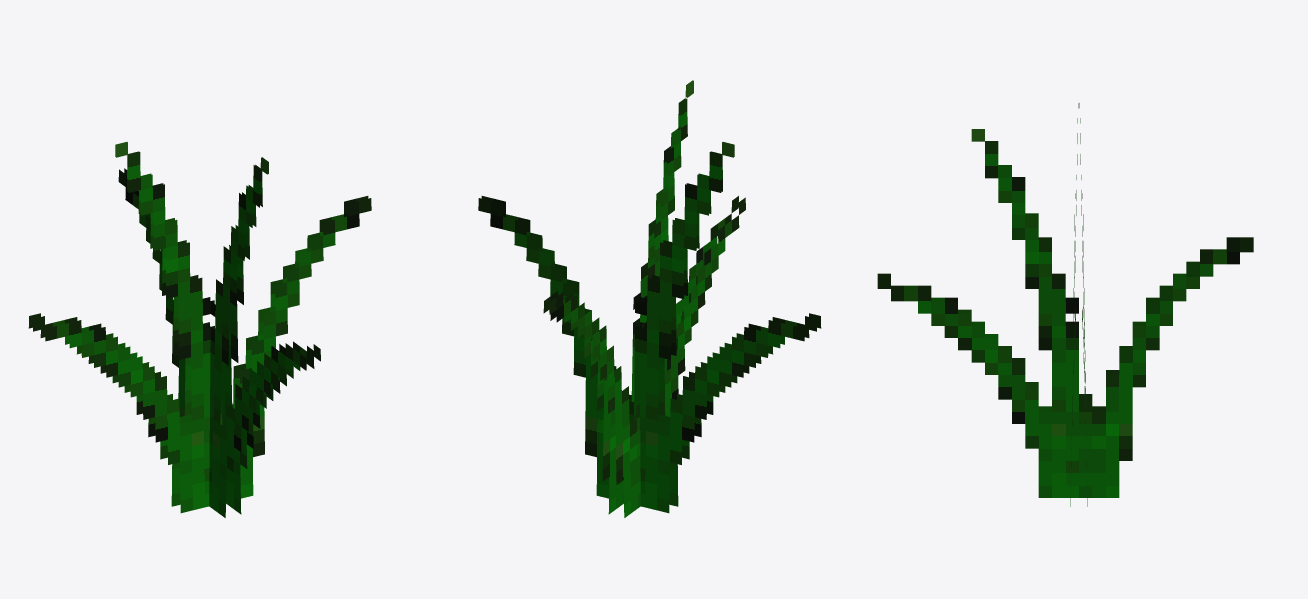
Rendered from grass05_spring.glb.
The picture shows the model from 3 angles, left to right: view 1: azimuth 30°, elevation 25°; view 2: azimuth 150°, elevation 25°; view 3: azimuth 270°, elevation 25°; orthographic projection. The views are drawn at different scales.
Visible parts, largest first — view 1: grass05; view 2: grass05; view 3: grass05.
Part boxes in pixels (left/top/right/bottom): grass05: left=28, top=142, right=371, bottom=517; grass05: left=478, top=80, right=821, bottom=517; grass05: left=877, top=103, right=1253, bottom=506.
Size of the model in its own units: 0.4 by 0.4 by 0.4.
Materials: 1 (1 with a texture image).
